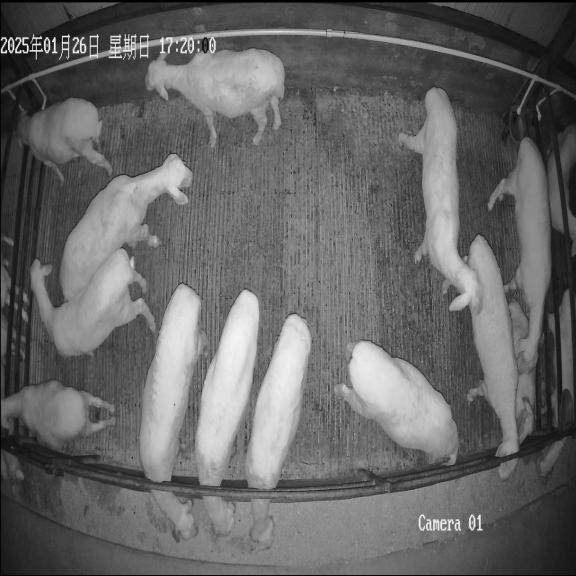drinking: (13, 98, 112, 183)
eating: (139, 284, 206, 542), (195, 289, 259, 535), (245, 314, 311, 549), (467, 235, 519, 481)
lying: (509, 301, 535, 444)
stand: (60, 154, 193, 301), (399, 88, 483, 310), (334, 341, 459, 465), (488, 138, 551, 373), (145, 48, 285, 148), (30, 249, 156, 356), (2, 380, 115, 451)
